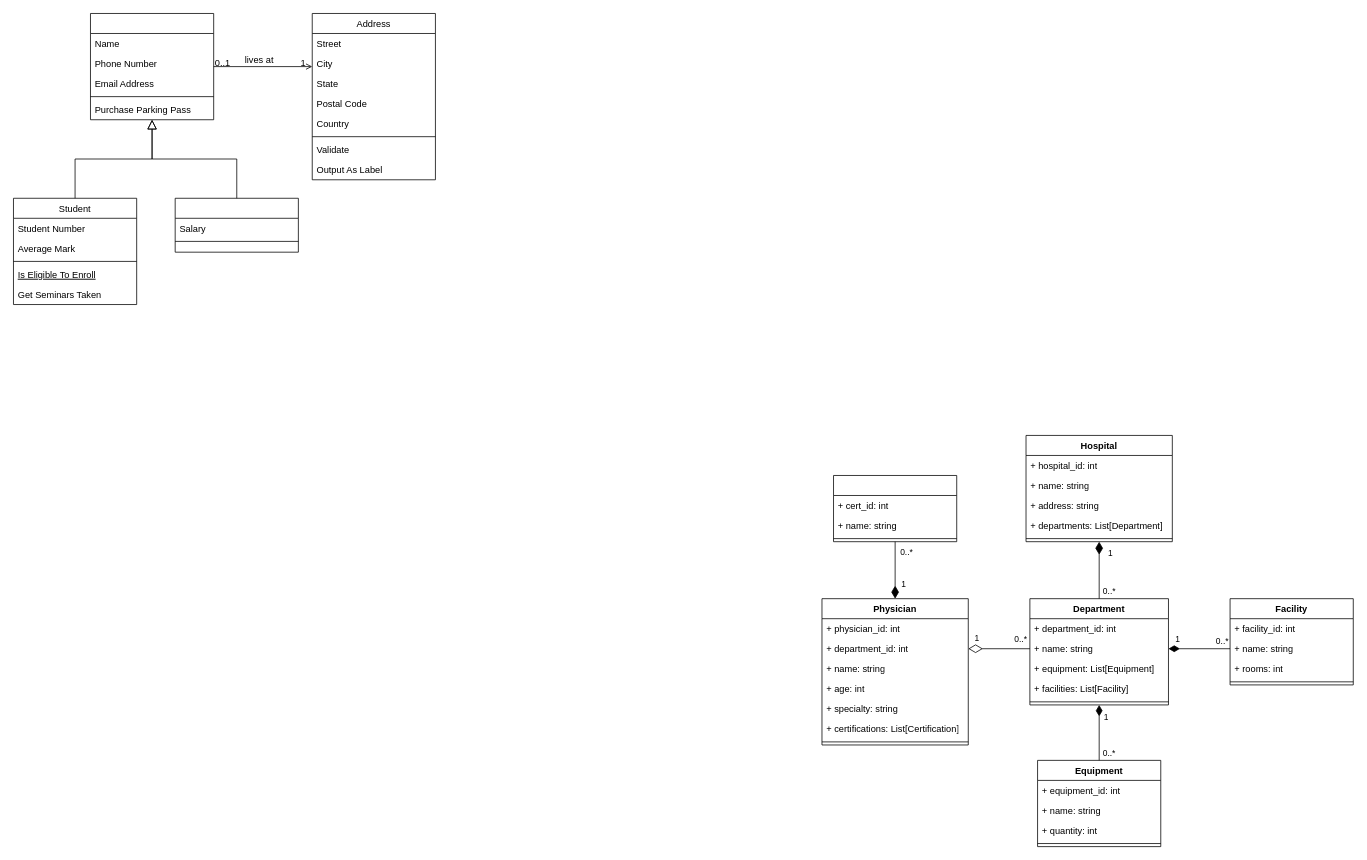
Some shapes in this 1367 by 860 pixel diagram are drawn without their labels. Here are the shapes that lost their labels. From the top down, the box of each, then its label:
(90, 13, 214, 120): Person
(174, 198, 298, 252): Professor
(833, 475, 957, 542): Certification
